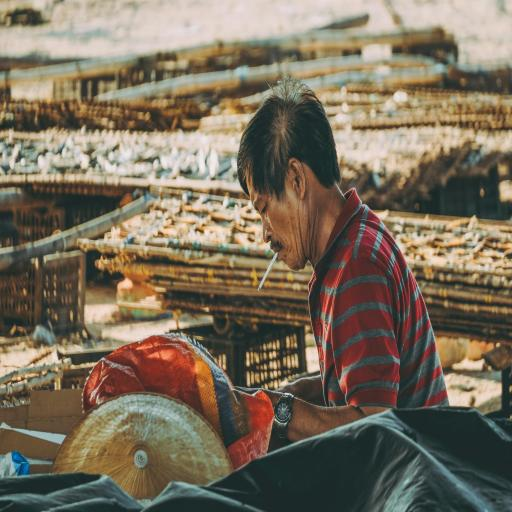merokok: (243, 127, 305, 298)
